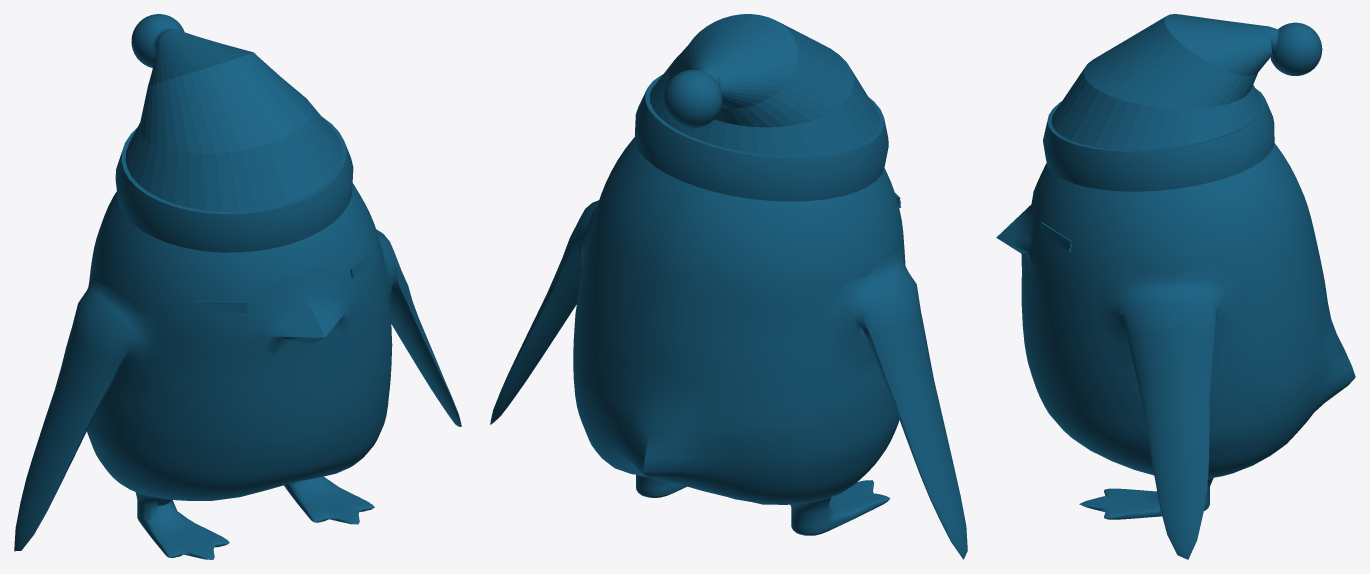
File: penguin_blue_idle_11f.fbx
3 views of the same model, side by side, from view 1: azimuth 30°, elevation 25°; view 2: azimuth 150°, elevation 25°; view 3: azimuth 270°, elevation 25° (orthographic). The views are drawn at different scales.
Parts seen in each view (by area): view 1: ppp_11, bousi, ai; view 2: ppp_11, bousi; view 3: ppp_11, bousi.
Part boxes in pixels (x1,y1,x2,y2): ppp_11: [14, 183, 461, 559]; bousi: [115, 14, 353, 252]; ai: [194, 248, 378, 312]; ppp_11: [490, 137, 967, 559]; bousi: [635, 14, 888, 201]; ppp_11: [996, 143, 1355, 559]; bousi: [1043, 14, 1322, 191].
Size of the model in its own units: 20.47 by 20.1 by 14.76.
1 material, 1 textured.
